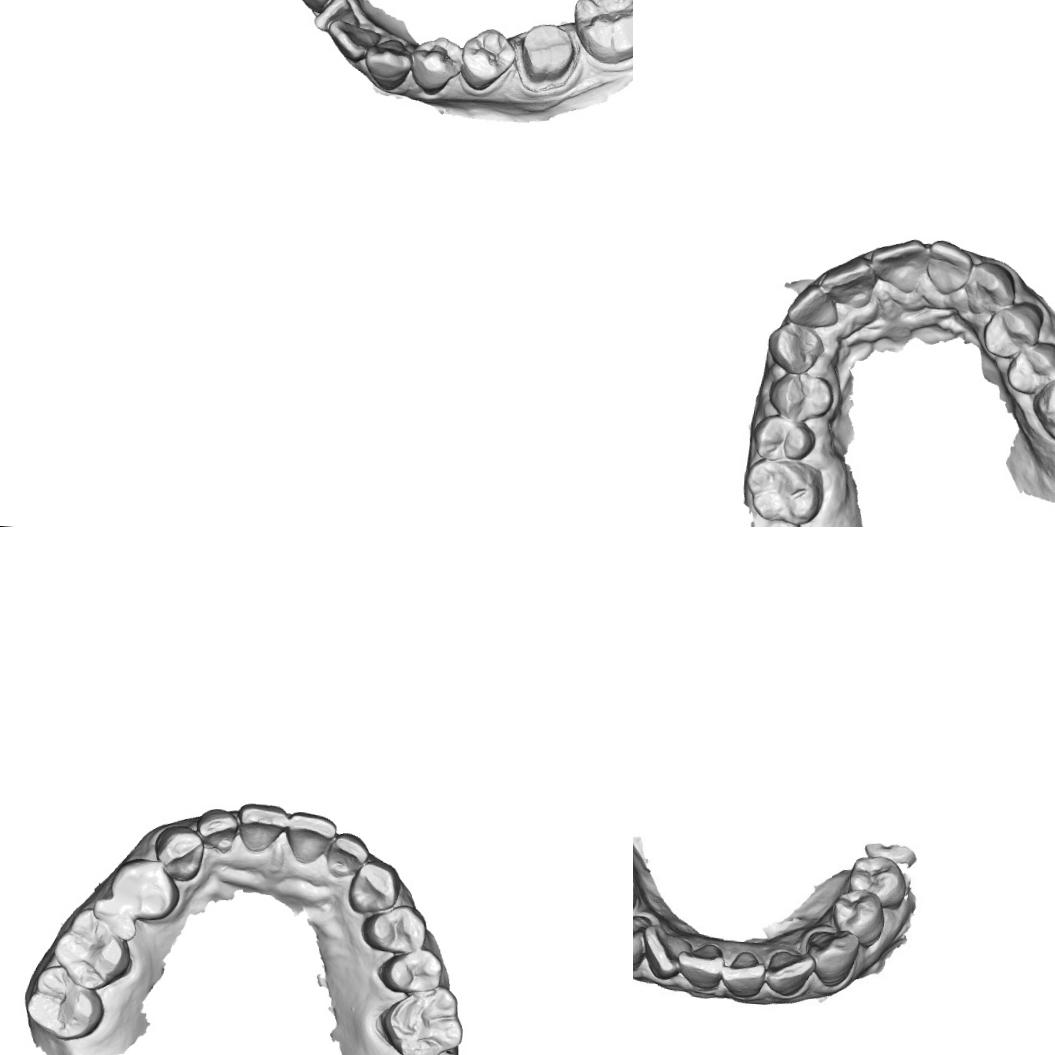canine: (150, 820, 209, 884), (802, 926, 860, 989), (344, 856, 402, 918), (764, 320, 826, 376), (963, 259, 1018, 319), (361, 36, 414, 92), (633, 911, 652, 973)
crown: (510, 19, 582, 94)
incisor: (868, 232, 932, 296), (814, 253, 878, 311), (282, 808, 340, 868), (638, 922, 695, 982), (234, 799, 290, 856), (923, 238, 974, 296), (324, 17, 383, 65), (785, 280, 841, 330), (674, 940, 725, 992), (762, 949, 816, 998), (322, 829, 371, 881), (193, 805, 240, 855), (719, 949, 766, 999), (311, 0, 361, 35), (288, 0, 342, 12)
molar: (44, 902, 136, 993), (18, 961, 109, 1044), (376, 979, 469, 1055), (741, 456, 826, 527), (569, 0, 633, 66), (1030, 361, 1055, 446)
premolar: (104, 854, 182, 924), (357, 900, 432, 958), (372, 944, 446, 1002), (980, 296, 1046, 360), (458, 24, 518, 94), (766, 368, 835, 422), (408, 32, 464, 97), (846, 853, 908, 910), (829, 886, 886, 948), (750, 410, 817, 462), (1003, 338, 1055, 397)
